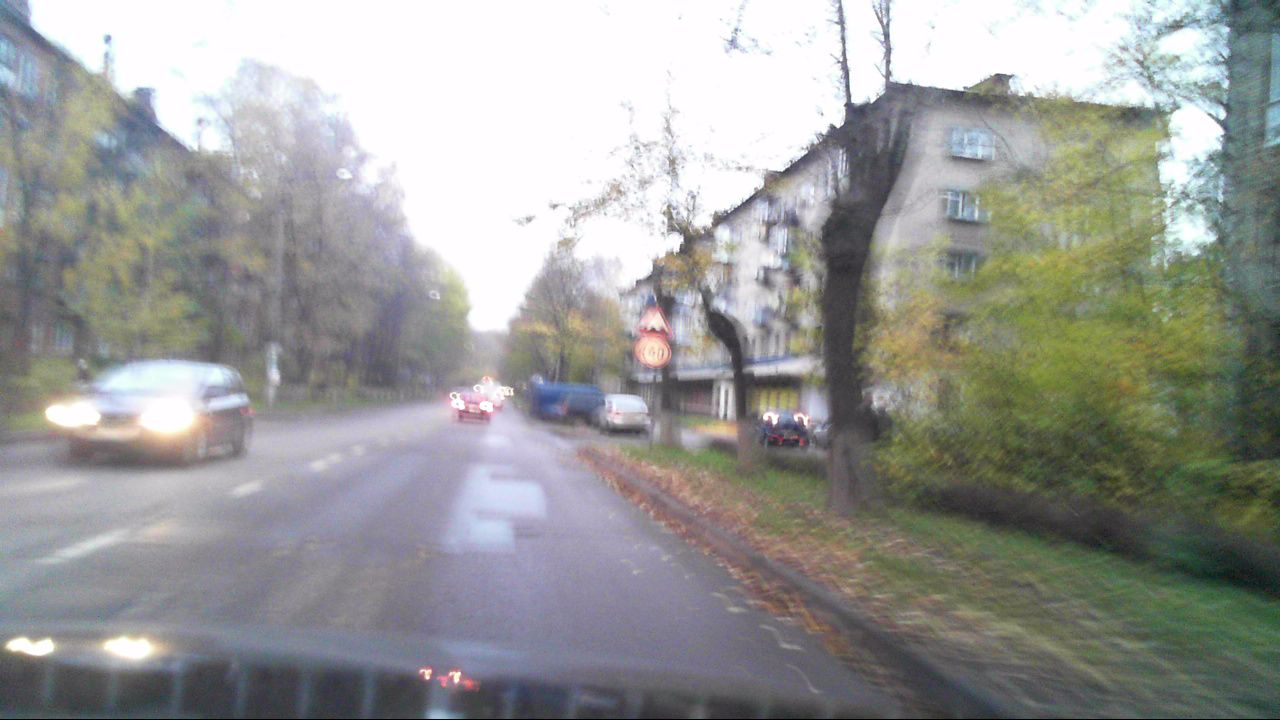speed_warning_40: (641, 338, 671, 367)
